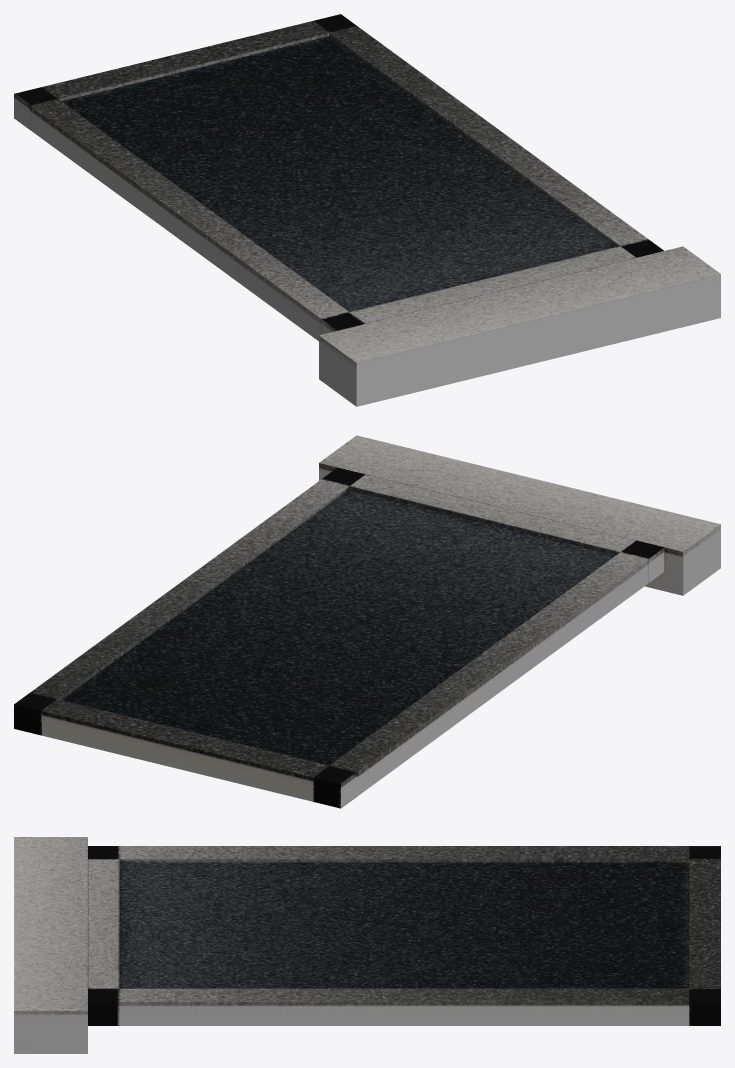
The picture shows the model from 3 angles, top to bottom: view 1: azimuth 30°, elevation 25°; view 2: azimuth 150°, elevation 25°; view 3: azimuth 270°, elevation 25°; orthographic projection. The views are drawn at different scales.
Parts seen in each view (by area): view 1: R4v_blindbox.001; view 2: R4v_blindbox.001; view 3: R4v_blindbox.001.
Part boxes in pixels (x1,y1,x2,y2): R4v_blindbox.001: [14, 14, 720, 406]; R4v_blindbox.001: [14, 435, 720, 808]; R4v_blindbox.001: [14, 837, 720, 1053].
Bounding box in the file's own units: 0.78 × 0.09 × 1.34.
Materials: 1 (1 with a texture image).
